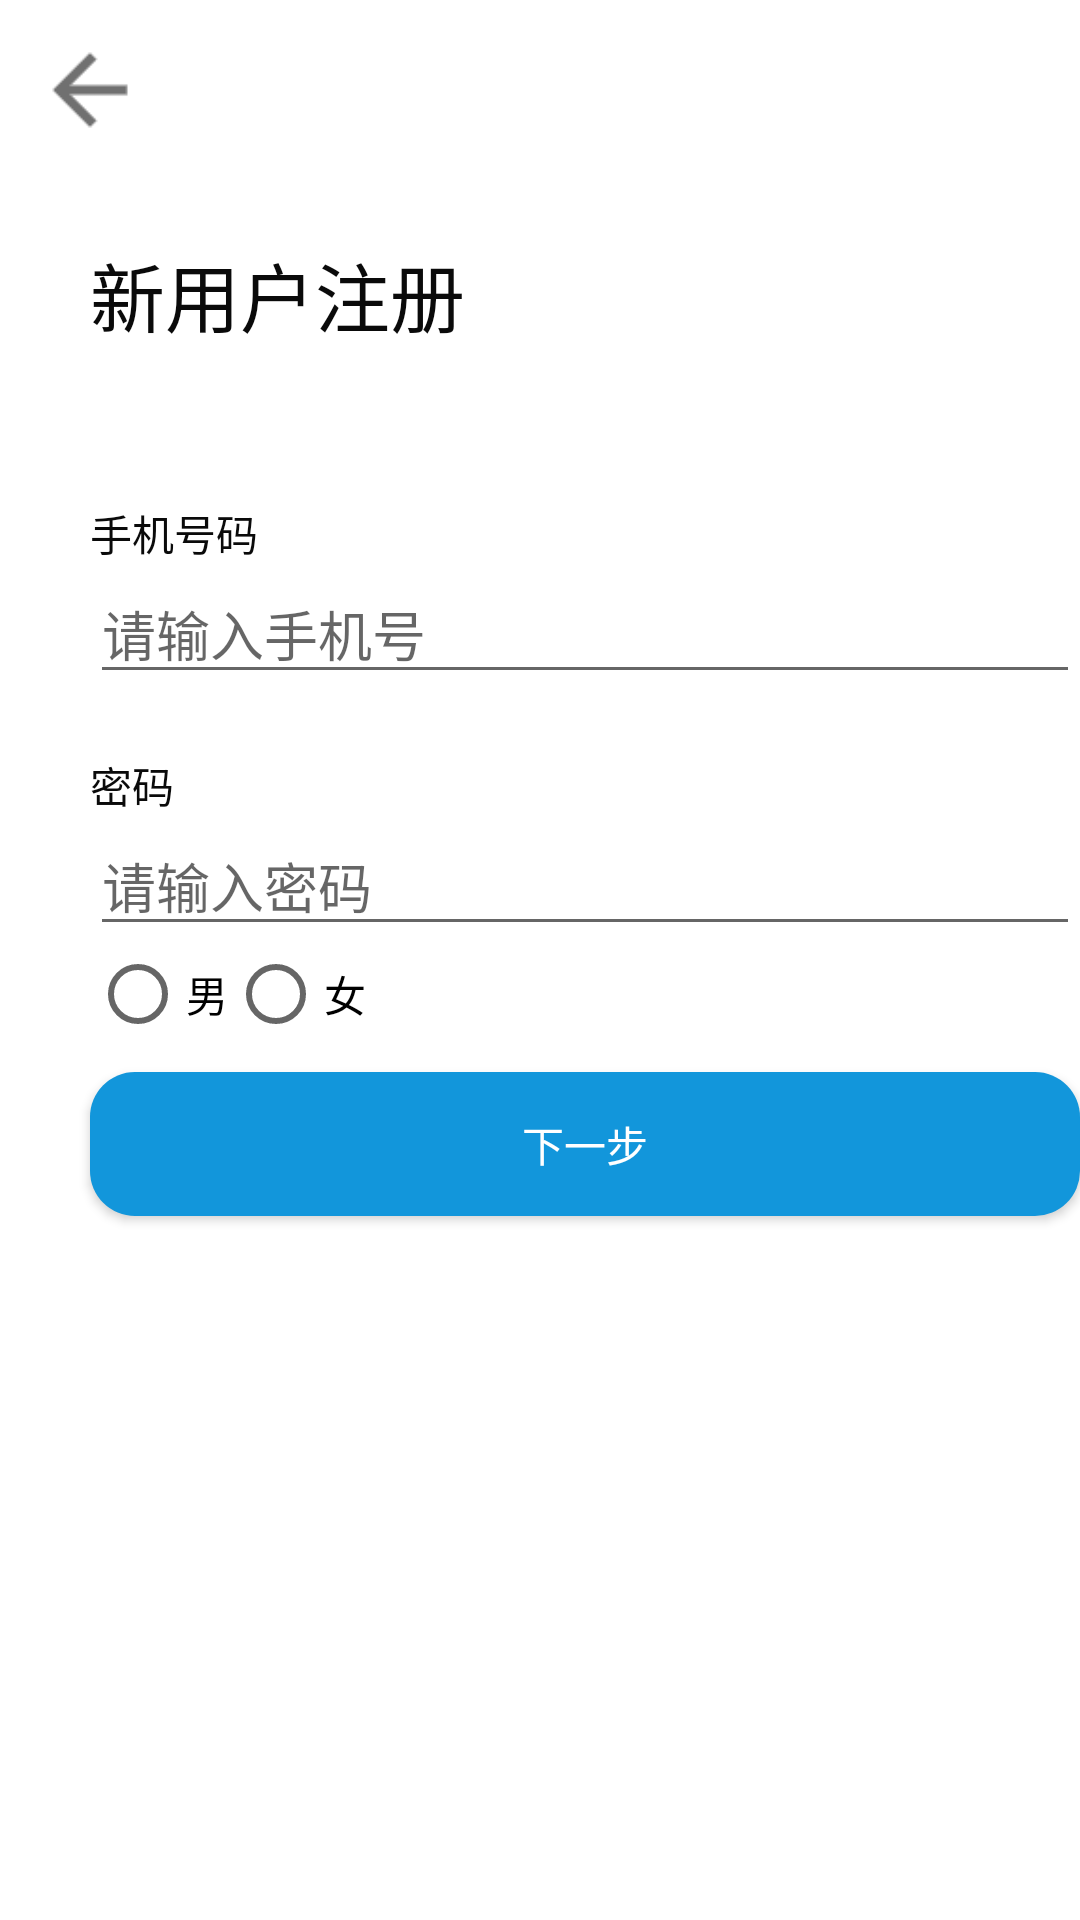

Named icons in this screenshot (1080×1920) and their bounding boxes, Rect(x1, y1, x2, y2):
back: Rect(53, 53, 128, 127)
